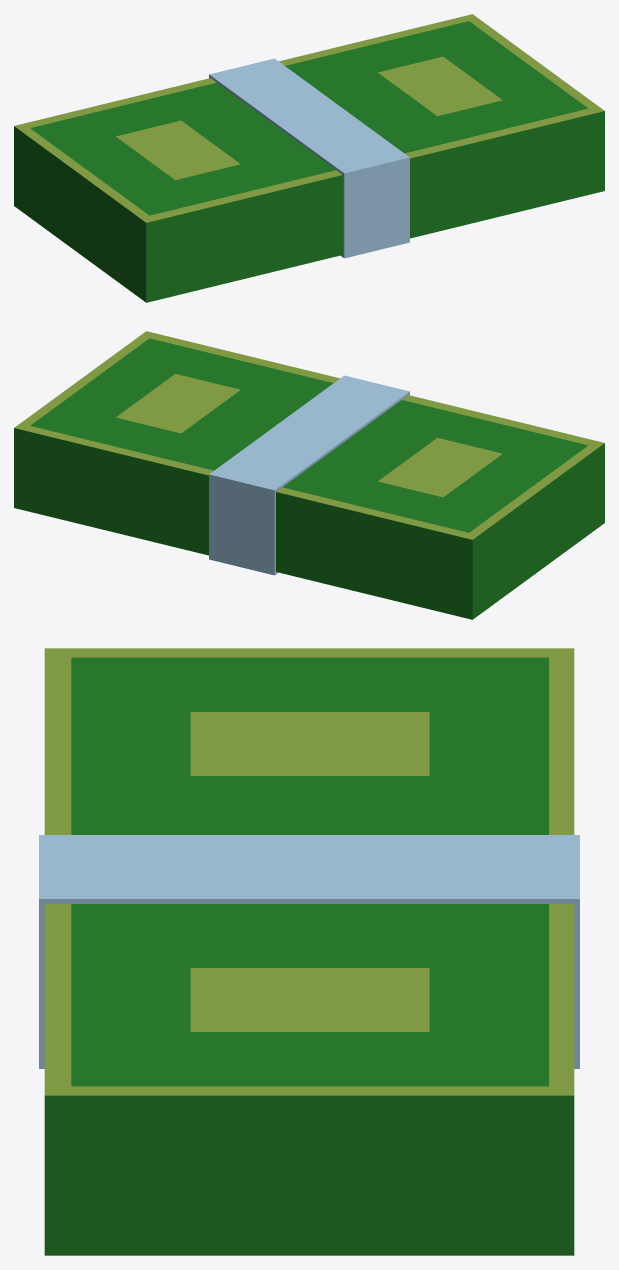
Rendered from Cash.fbx.
3 renders of one model, top to bottom at view 1: azimuth 30°, elevation 25°; view 2: azimuth 150°, elevation 25°; view 3: azimuth 270°, elevation 25°, orthographic. The views are drawn at different scales.
Visible parts, largest first — view 1: Cash; view 2: Cash; view 3: Cash.
Boxes of the visible parts, left/top/right/bottom form: Cash: left=14, top=14, right=604, bottom=302; Cash: left=14, top=331, right=604, bottom=619; Cash: left=39, top=648, right=579, bottom=1255.
Size of the model in its own units: 23.52 by 4.17 by 12.01.
